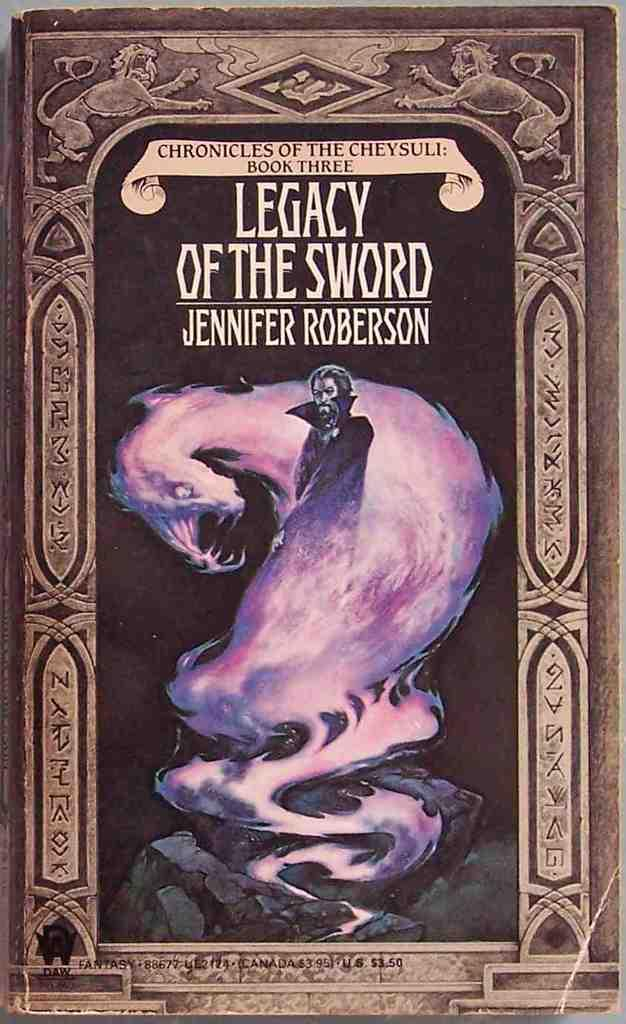book: (0, 23, 625, 1002)
